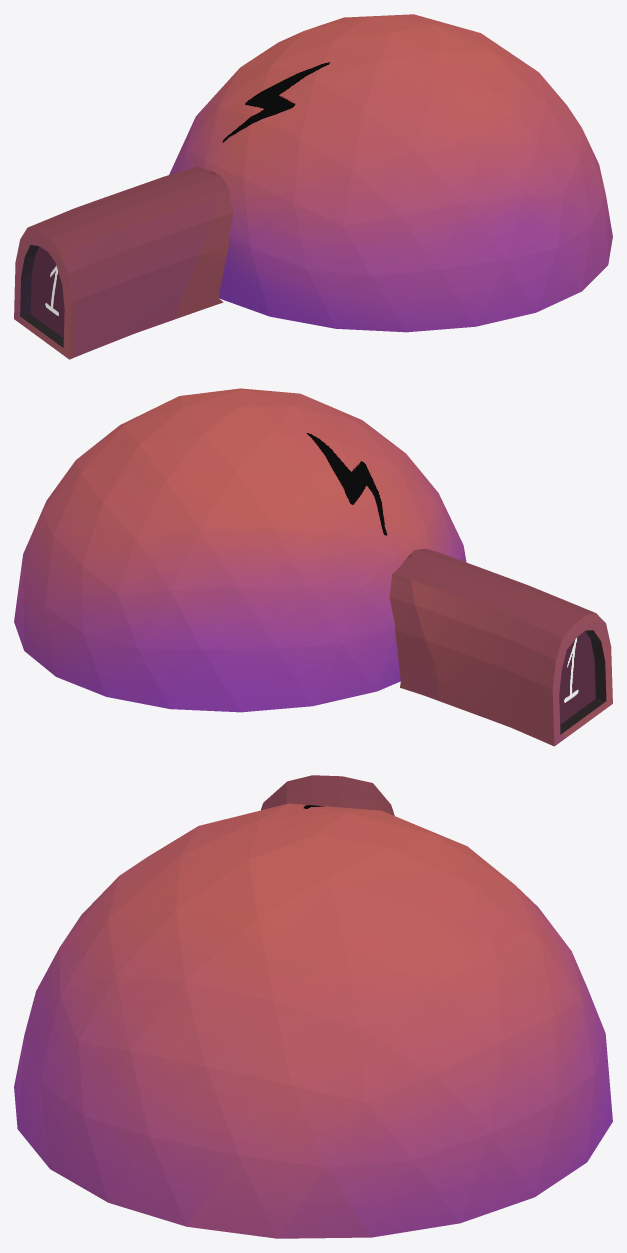
The picture shows the model from 3 angles, top to bottom: view 1: azimuth 30°, elevation 25°; view 2: azimuth 150°, elevation 25°; view 3: azimuth 270°, elevation 25°; orthographic projection. The views are drawn at different scales.
Parts seen in each view (by area): view 1: Icosphere.001; view 2: Icosphere.001; view 3: Icosphere.001.
Boxes of the visible parts, x1,y1,x2,y2 form: Icosphere.001: (14, 14, 612, 359); Icosphere.001: (14, 388, 612, 746); Icosphere.001: (14, 775, 612, 1238).
Bounding box in the file's own units: 0.6593 × 0.2666 × 0.4815.
Materials: 1 (1 with a texture image).
